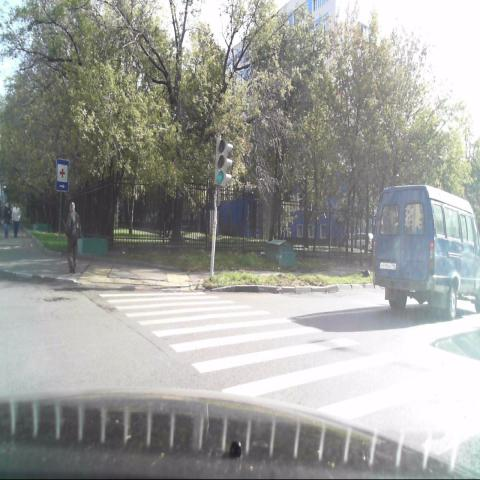7_1: (55, 157, 68, 193)
